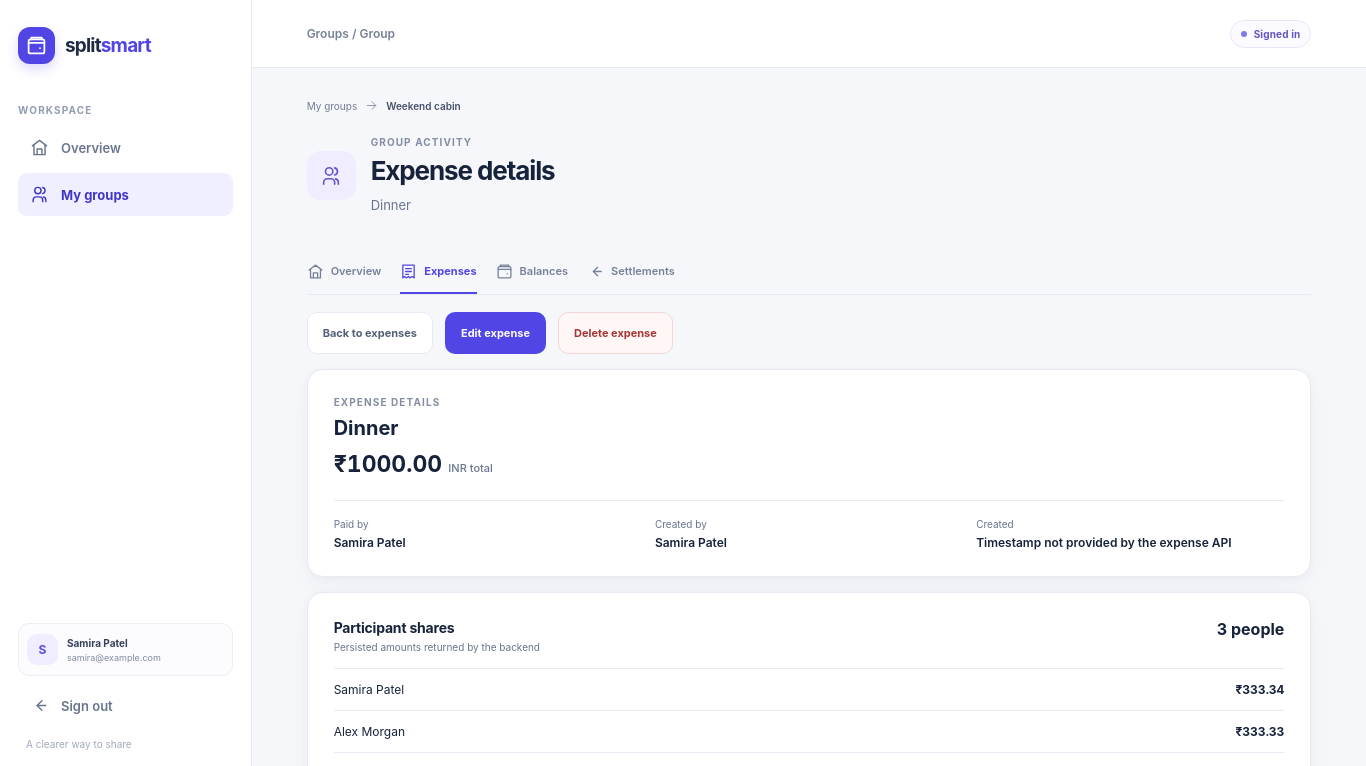
Test case: group expense listing and details › clears private expense details after the user signs out
Expected: the heading "Dinner" is shown, [334,416,398,440]
Click the button "Sign out". click: (126, 706)
box: [18,684,233,727]
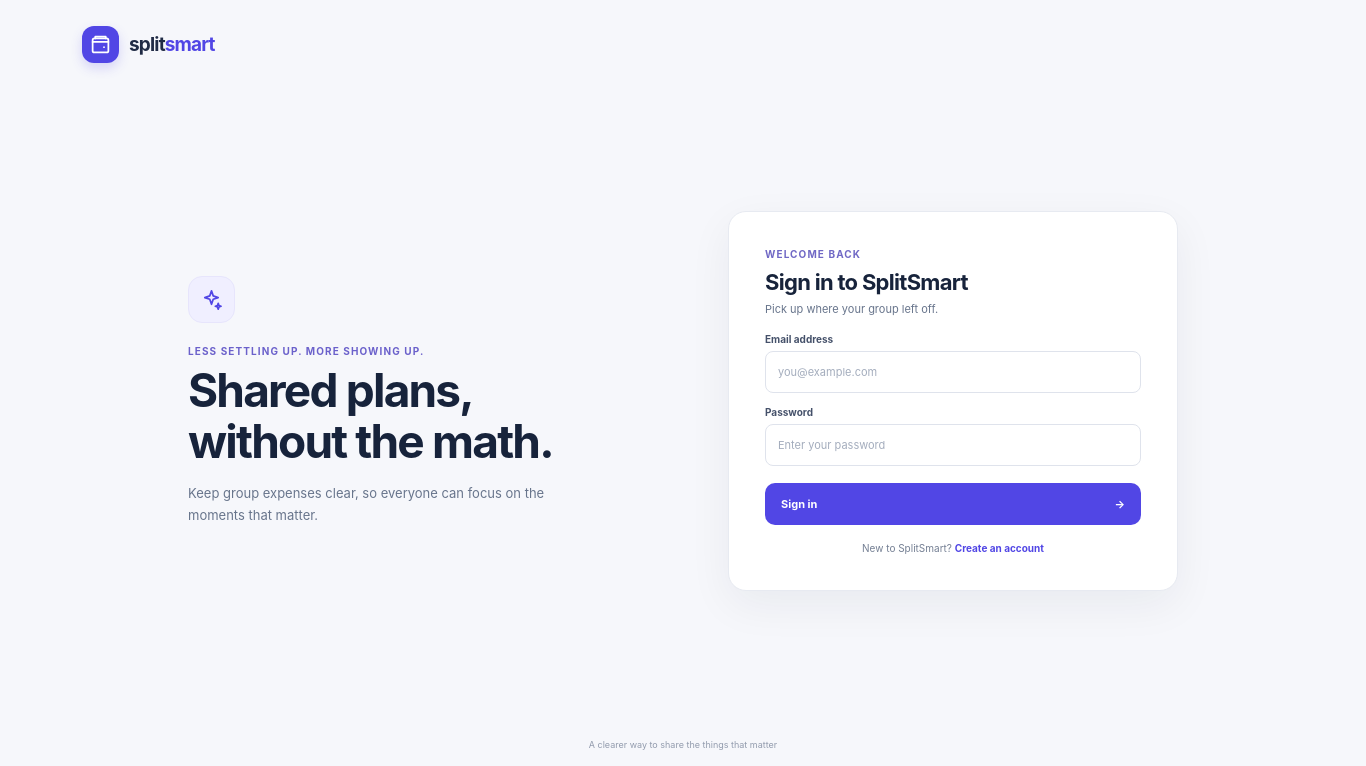
Now the heading "Sign in to SplitSmart" is shown, box [765,269,968,295]
Now the text "Dinner" is gone
